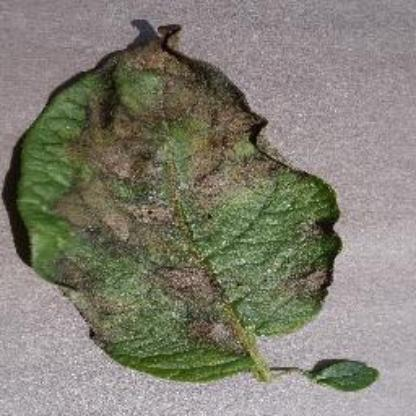Late-Blight: (3, 13, 339, 382)
